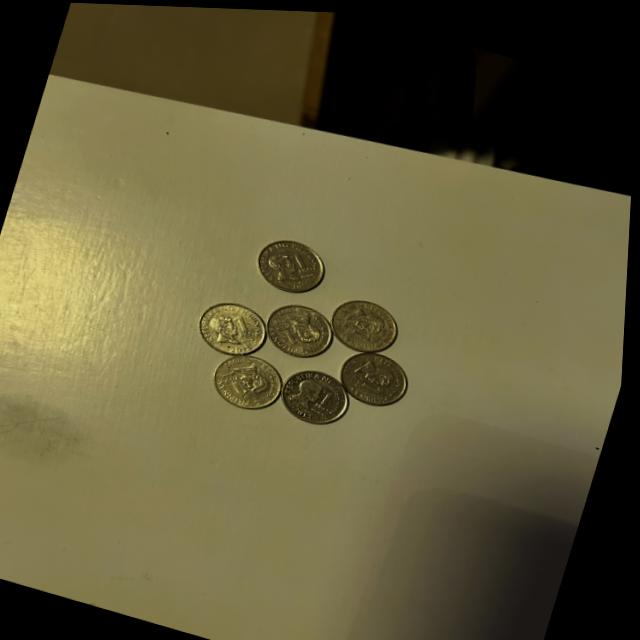1_Old_Front: (225, 308, 266, 343), (353, 366, 396, 399), (286, 247, 322, 279), (272, 317, 307, 346), (220, 371, 256, 399), (346, 319, 380, 345), (319, 385, 342, 415)
